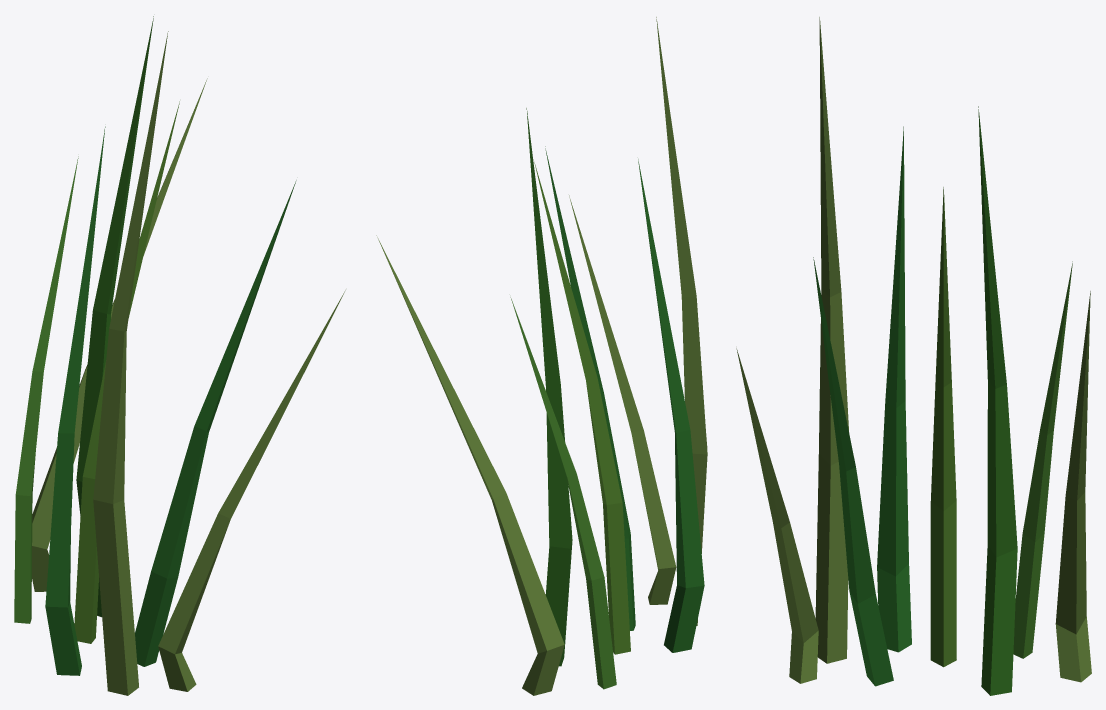
Rendered from Riet.fbx.
3 renders of one model, left to right at view 1: azimuth 30°, elevation 25°; view 2: azimuth 150°, elevation 25°; view 3: azimuth 270°, elevation 25°, orthographic. The views are drawn at different scales.
Visible parts, largest first — view 1: Cone.002, Cone.003, Cone.006, Cone.007, Cone.001, Cone.004, Cone, Cone.005; view 2: Cone.003, Cone.005, Cone.001, Cone, Cone.002, Cone.004, Cone.007, Cone.006; view 3: Cone.002, Cone.001, Cone.003, Cone, Cone.005, Cone.006, Cone.004, Cone.007.
Boxes of the visible parts, left/top/right/bottom form: Cone.002: left=93, top=31, right=168, bottom=695; Cone.003: left=45, top=126, right=105, bottom=675; Cone.006: left=135, top=180, right=296, bottom=666; Cone.007: left=158, top=290, right=345, bottom=691; Cone.001: left=76, top=16, right=153, bottom=617; Cone.004: left=14, top=156, right=78, bottom=623; Cone: left=74, top=101, right=179, bottom=643; Cone.005: left=32, top=78, right=207, bottom=591; Cone.003: left=638, top=159, right=704, bottom=652; Cone.005: left=376, top=235, right=564, bottom=695; Cone.001: left=526, top=108, right=572, bottom=666; Cone: left=534, top=162, right=630, bottom=654; Cone.002: left=656, top=17, right=707, bottom=625; Cone.004: left=510, top=297, right=616, bottom=689; Cone.007: left=569, top=195, right=676, bottom=604; Cone.006: left=545, top=146, right=635, bottom=630; Cone.002: left=815, top=17, right=849, bottom=663; Cone.001: left=978, top=106, right=1017, bottom=695; Cone.003: left=877, top=126, right=911, bottom=652; Cone: left=930, top=187, right=956, bottom=667; Cone.005: left=1055, top=291, right=1091, bottom=682; Cone.006: left=813, top=257, right=893, bottom=686; Cone.004: left=1013, top=261, right=1072, bottom=658; Cone.007: left=736, top=348, right=818, bottom=683.
Bounding box in the file's own units: 93.41 × 224 × 109.
